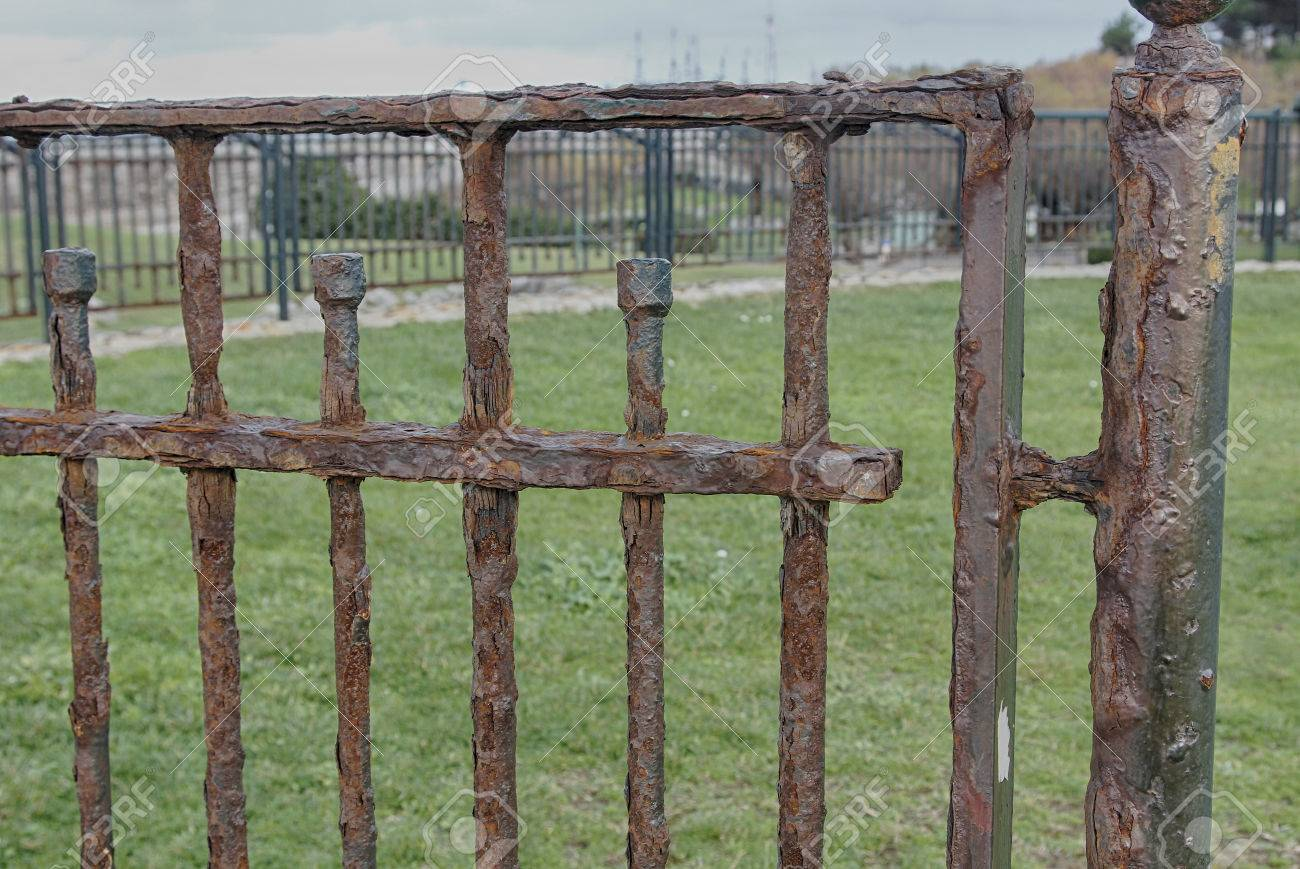rust: (165, 118, 242, 615), (472, 171, 525, 625)
